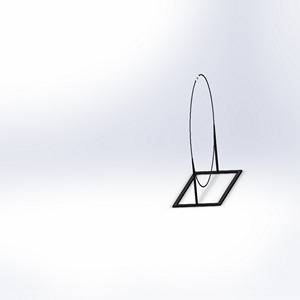circle: (169, 71, 244, 207)
